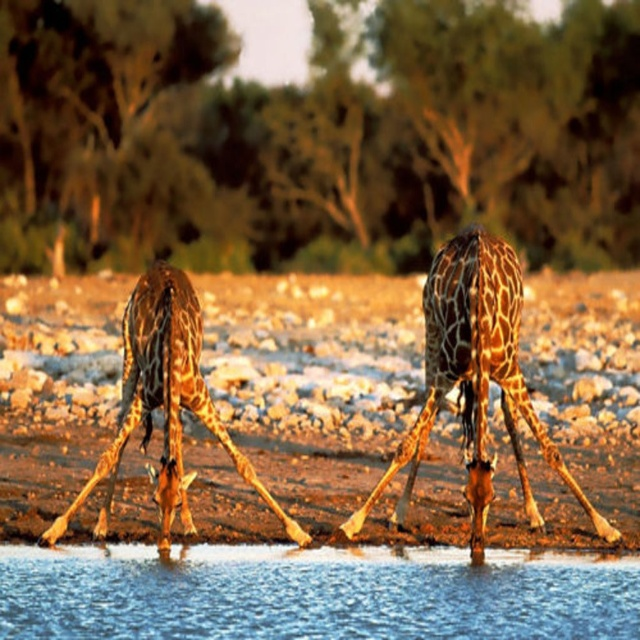Giraffe: (323, 222, 623, 566), (37, 261, 322, 564)
